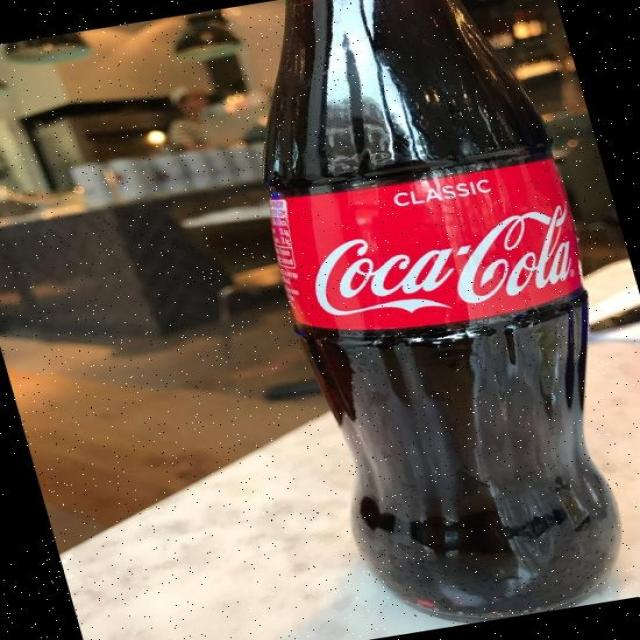coca-cola: (189, 0, 640, 639)
